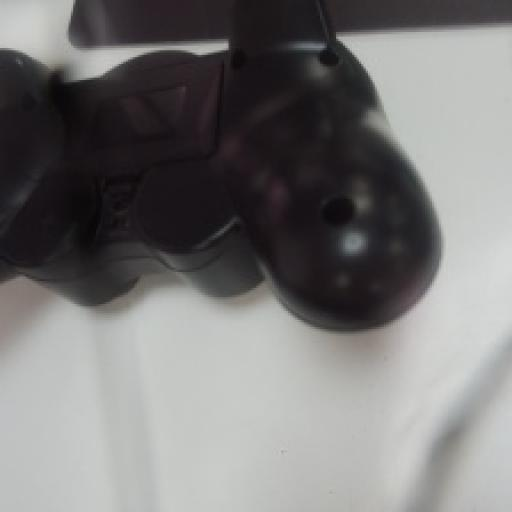game pad: (0, 0, 439, 329)
